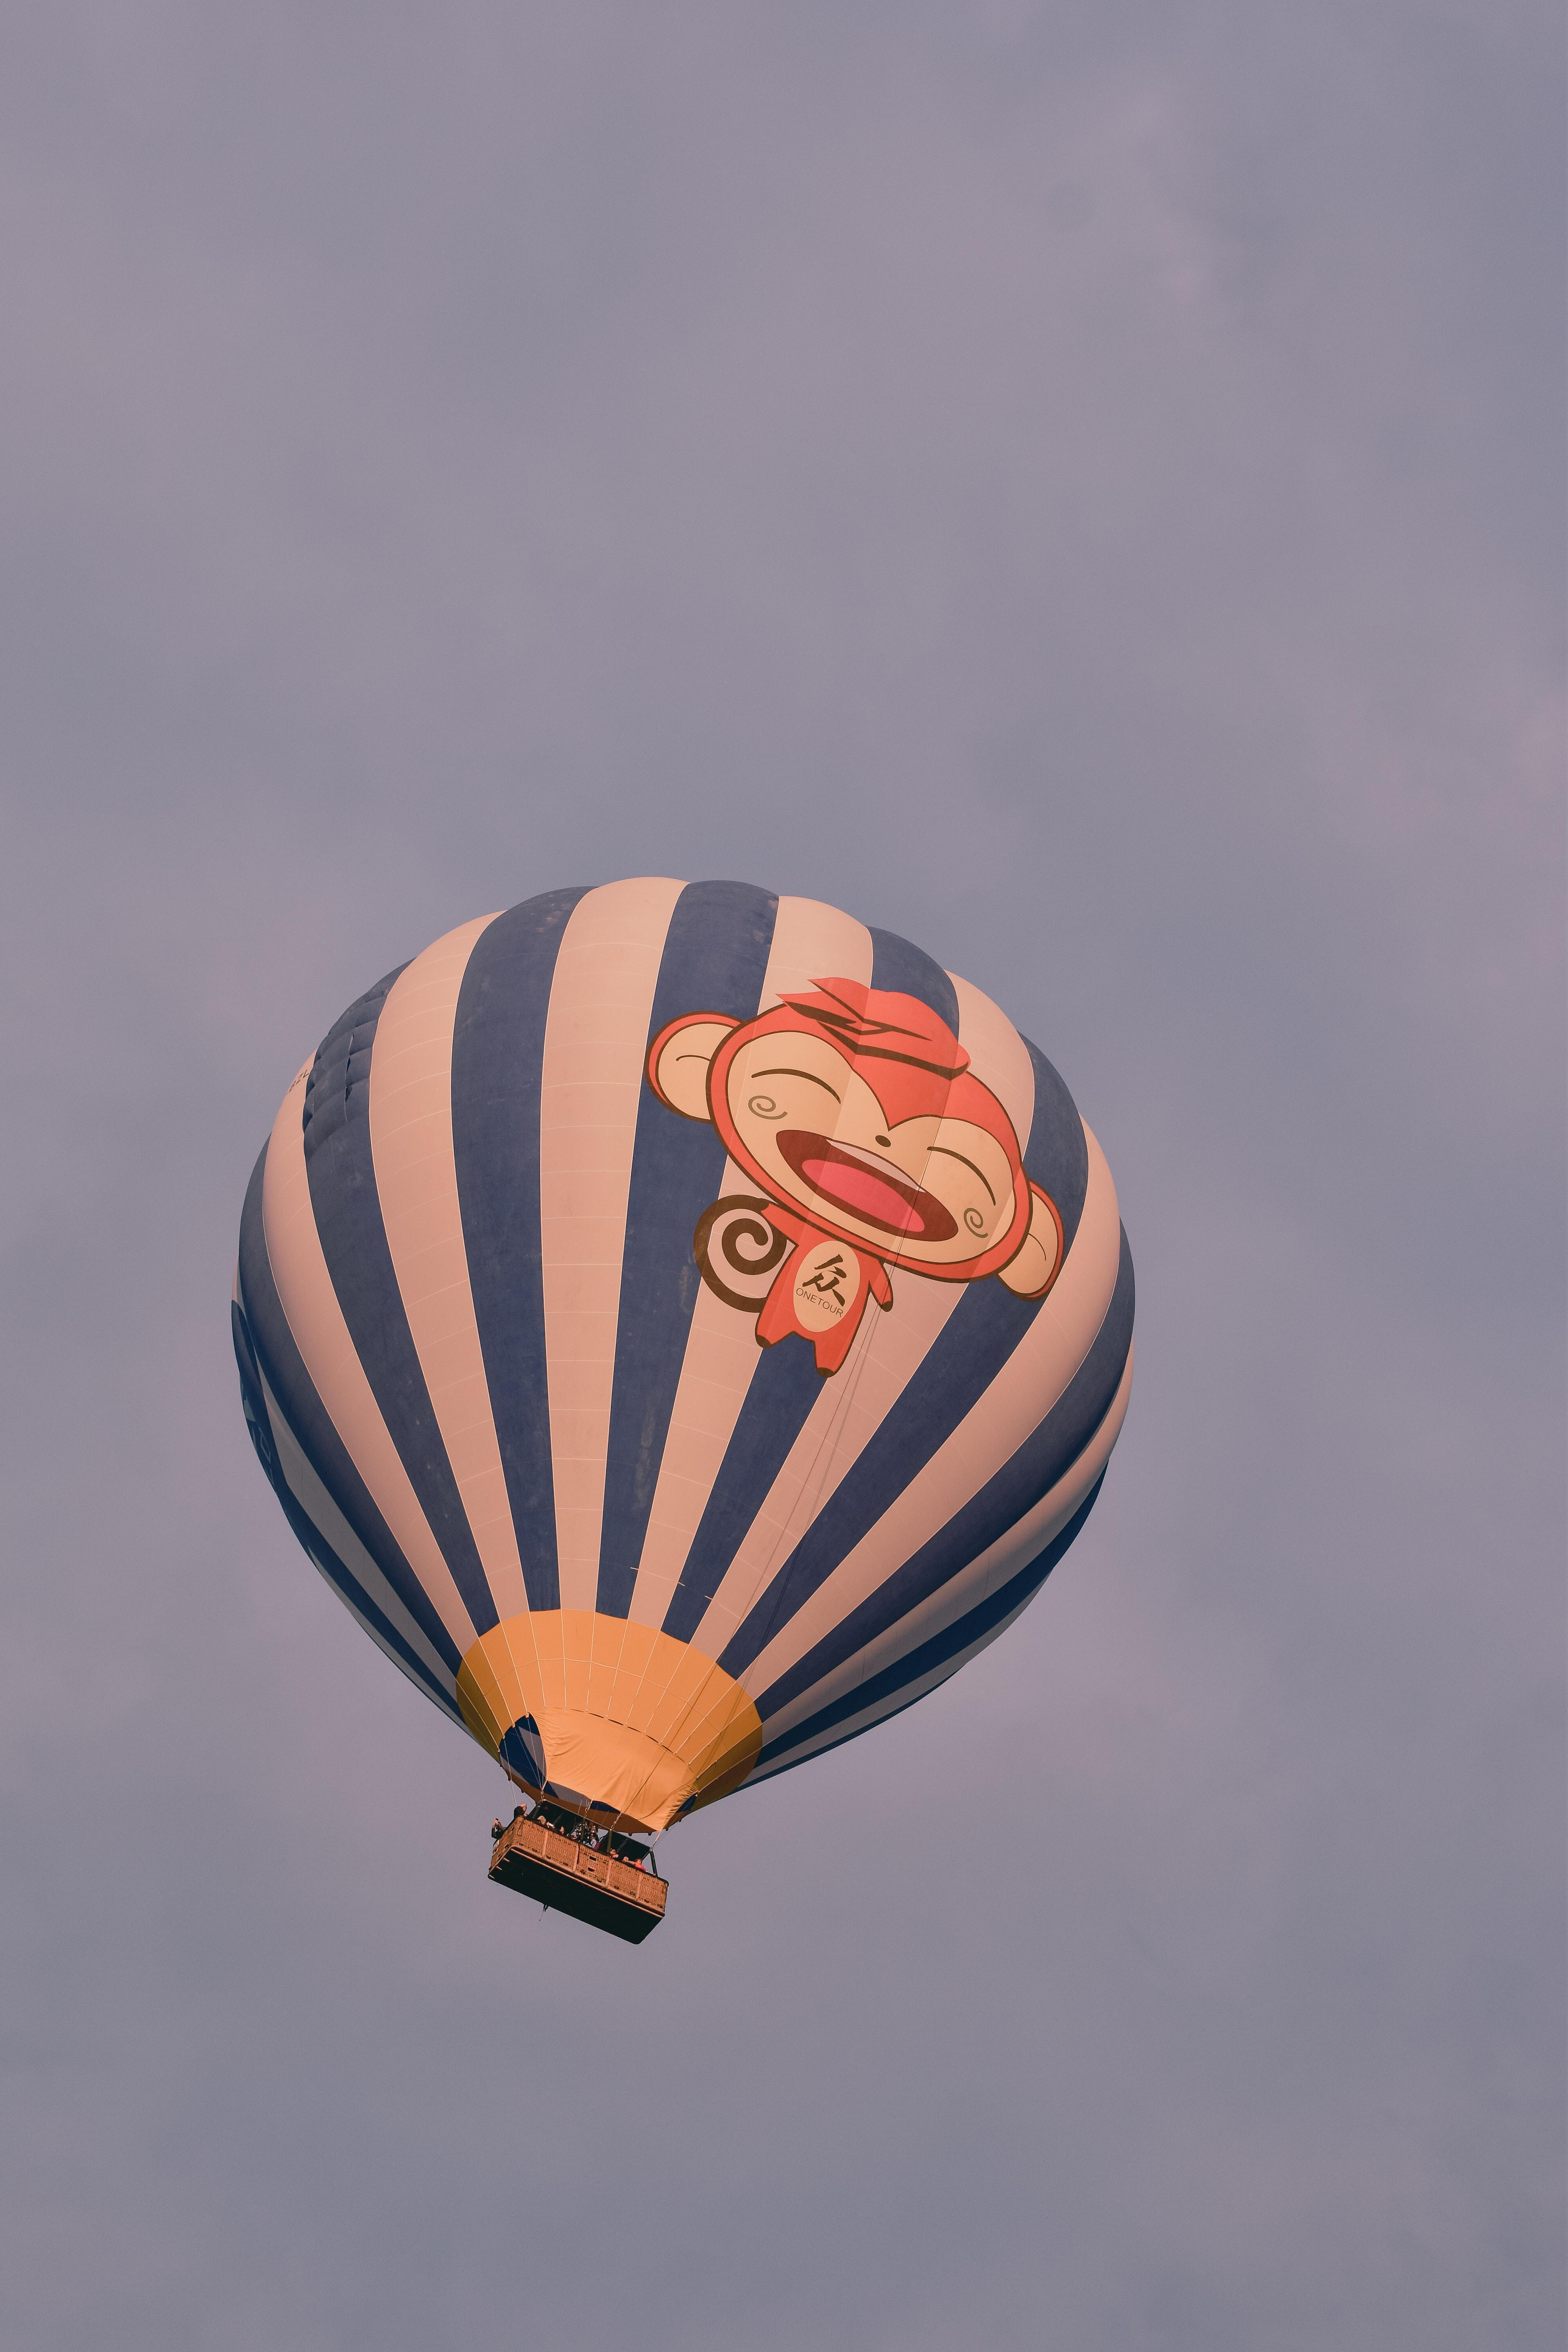hot air ballon: (210, 854, 1141, 1960)
